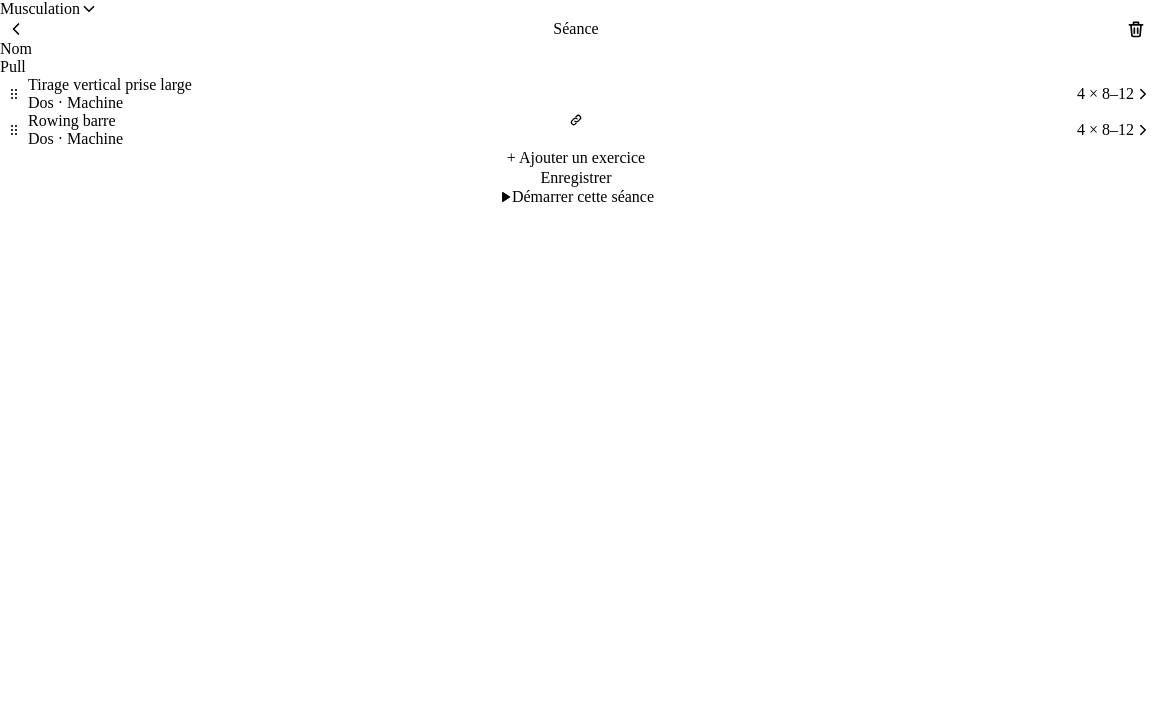
Scenario: Modifier la séance › deletes the workout after confirmation
Click the button named "Supprimer la séance": (1136, 29) left=1120, top=18, right=1151, bottom=40
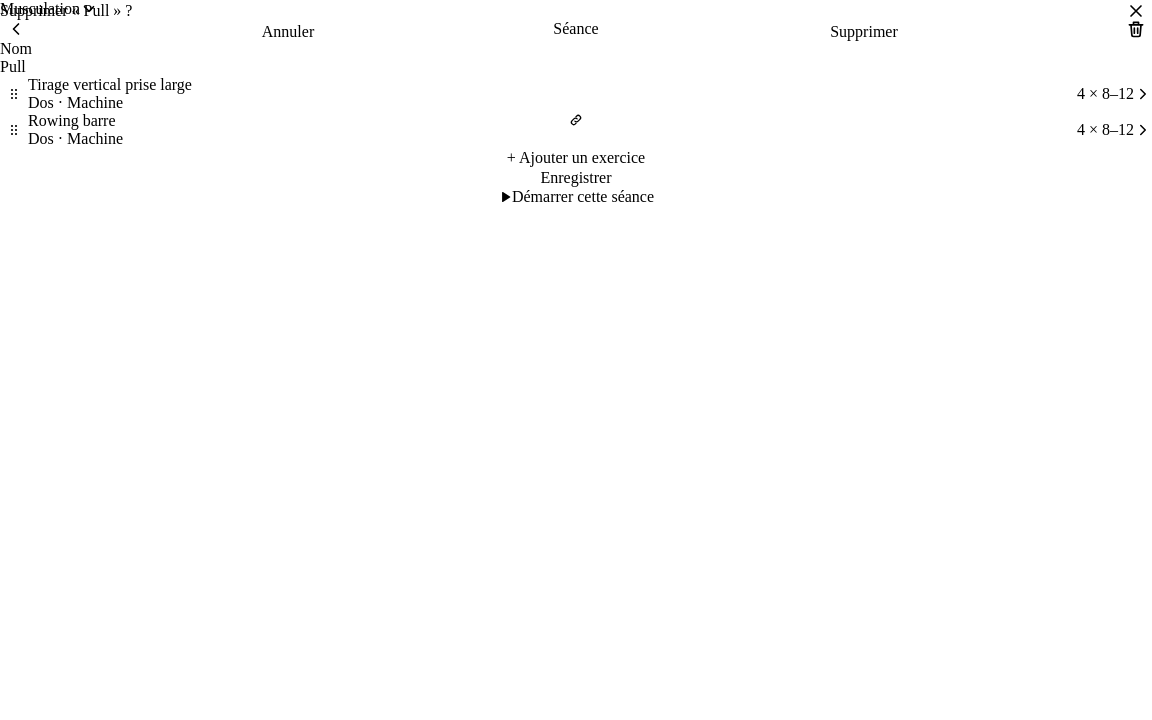
Click the button "Supprimer": (864, 32) left=576, top=22, right=1151, bottom=42
(page scrolled)
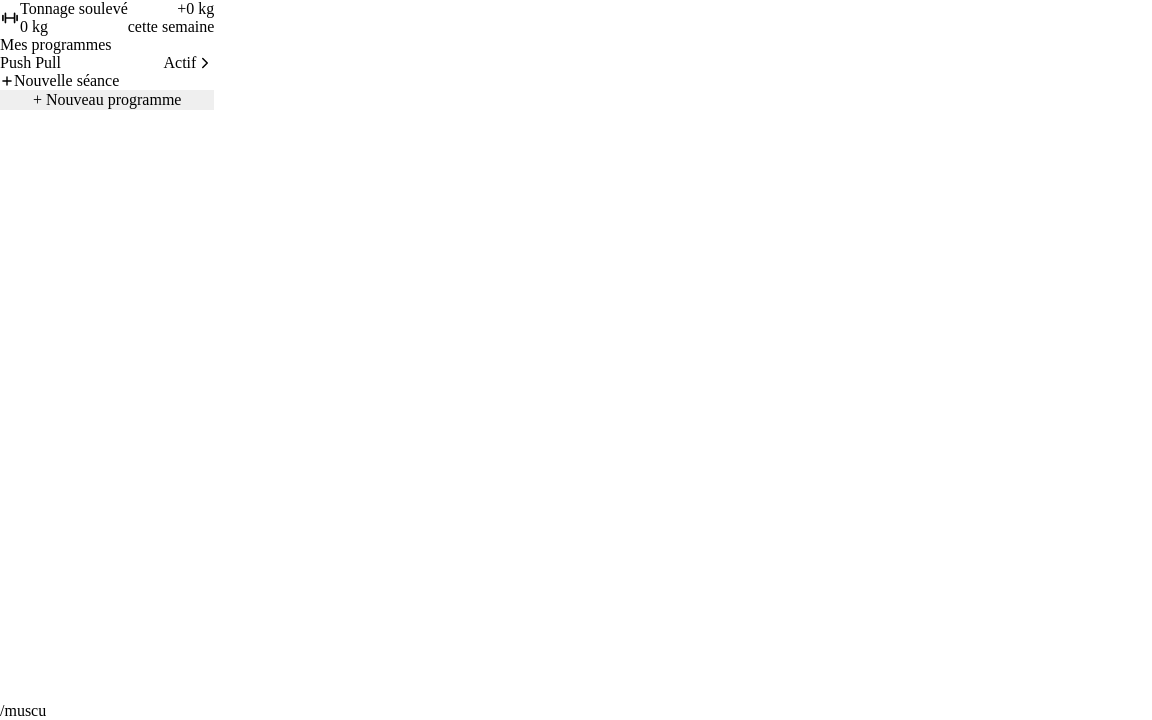
Expected: the text with test id "where" reads "/muscu", left=0, top=702, right=46, bottom=719
